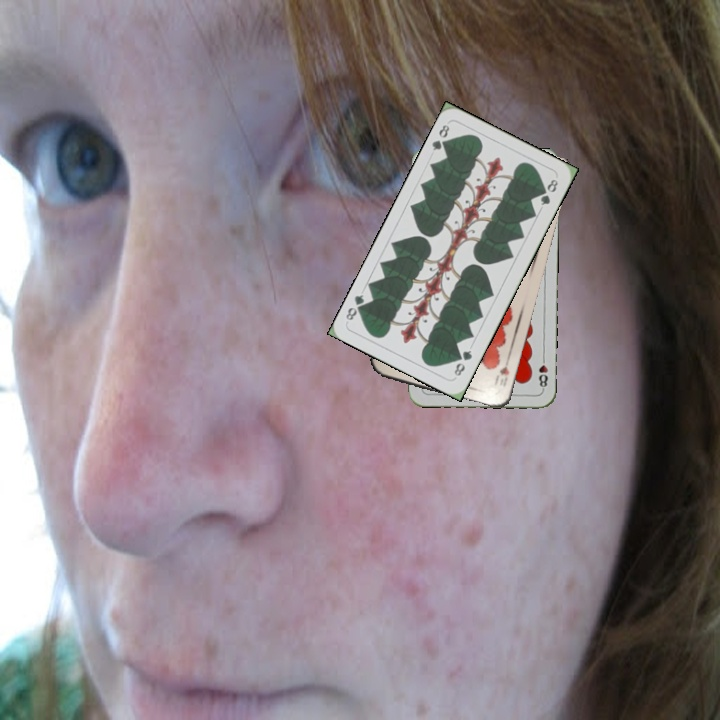G8: (450, 346, 475, 380), (428, 120, 452, 153)
H10: (490, 353, 512, 390)
H8: (535, 352, 551, 392)
